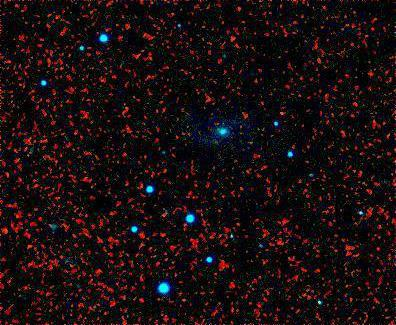star: (201, 109, 231, 139)
